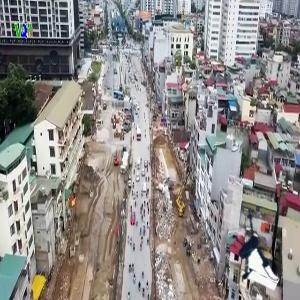drone: (215, 207, 293, 285)
